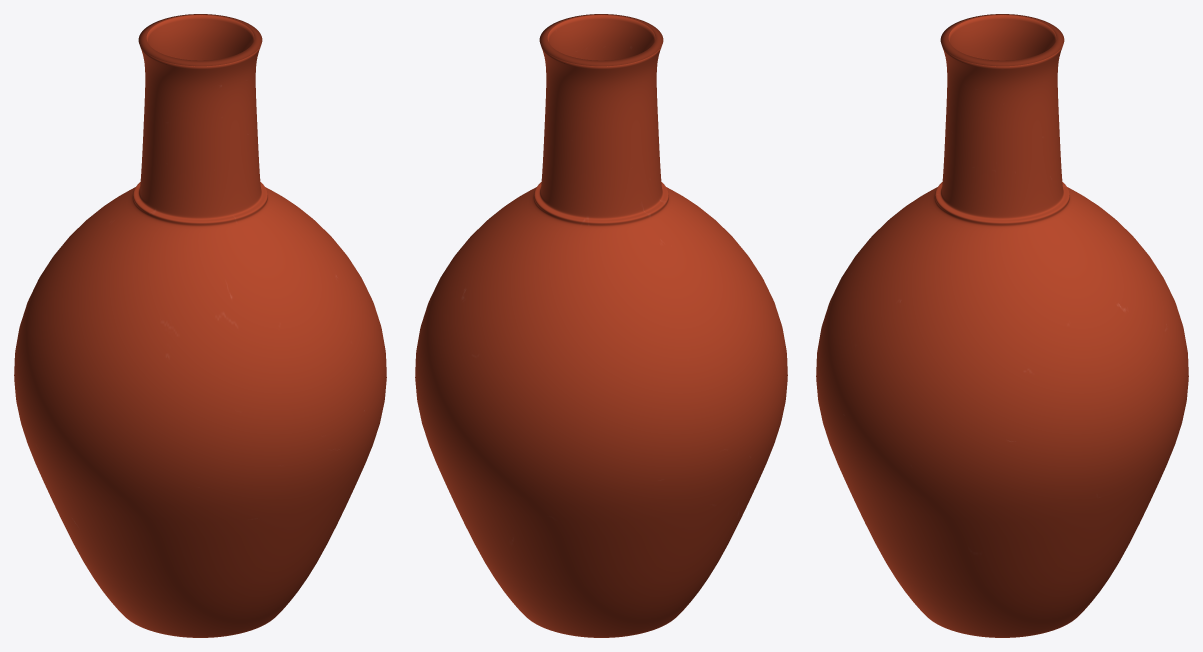
File: jug.glb
The picture shows the model from 3 angles, left to right: view 1: azimuth 30°, elevation 25°; view 2: azimuth 150°, elevation 25°; view 3: azimuth 270°, elevation 25°; orthographic projection.
Visible parts, largest first — view 1: Jug; view 2: Jug; view 3: Jug.
Boxes of the visible parts, box(x1,y1,x2,y2) form: Jug: box(14, 14, 386, 637); Jug: box(415, 14, 787, 637); Jug: box(816, 14, 1188, 637).
Size of the model in its own units: 0.2225 by 0.3731 by 0.2225.
Materials: 1 (1 with a texture image).
